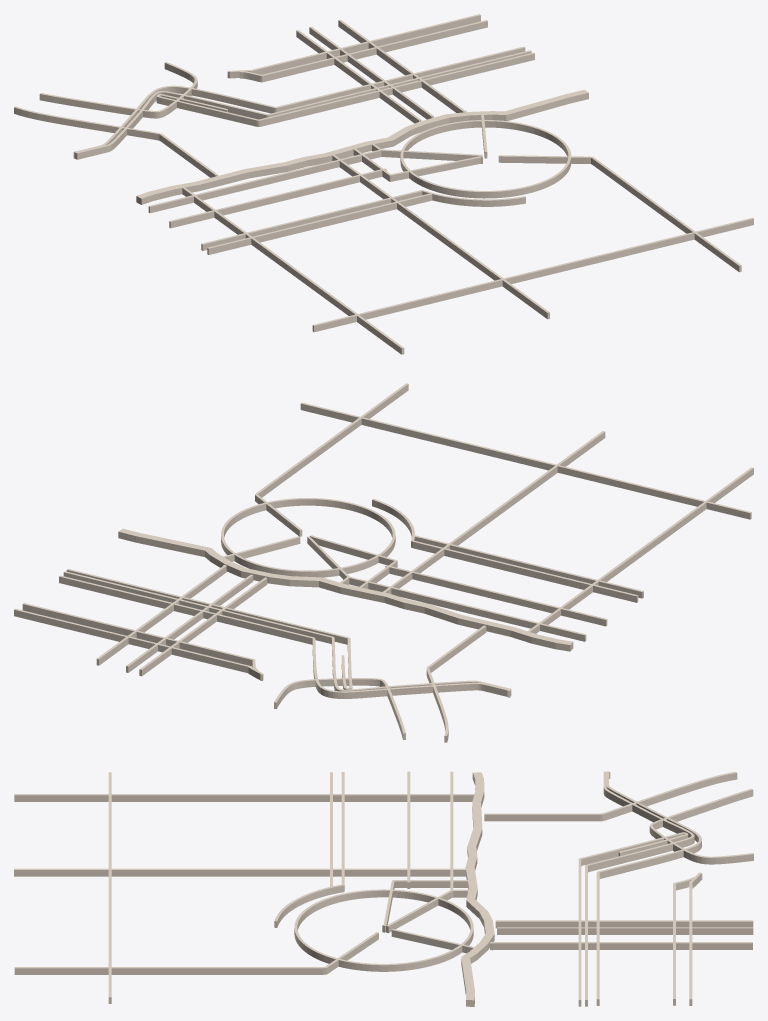
Rendered from input_02_minor_roads_original.glb.
3 views of the same model, one above another, from view 1: azimuth 30°, elevation 25°; view 2: azimuth 150°, elevation 25°; view 3: azimuth 270°, elevation 25° (orthographic). The views are drawn at different scales.
Visible parts, largest first — view 1: world; view 2: world; view 3: world.
Part boxes in pixels (x1=…): world: x1=14, y1=14, x2=753, y2=354; world: x1=14, y1=383, x2=753, y2=742; world: x1=14, y1=771, x2=753, y2=1006.
Bounding box in the file's own units: 73.53 × 1 × 100.
